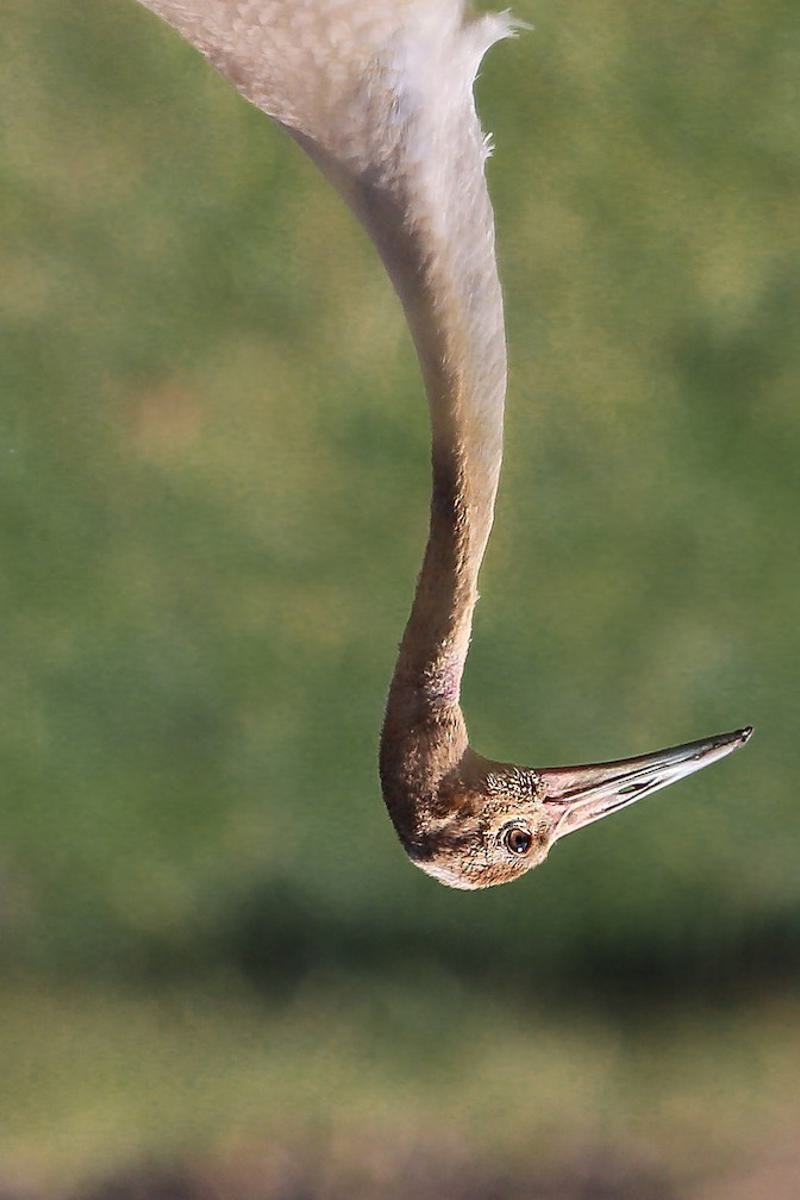crane: (9, 1, 770, 912)
